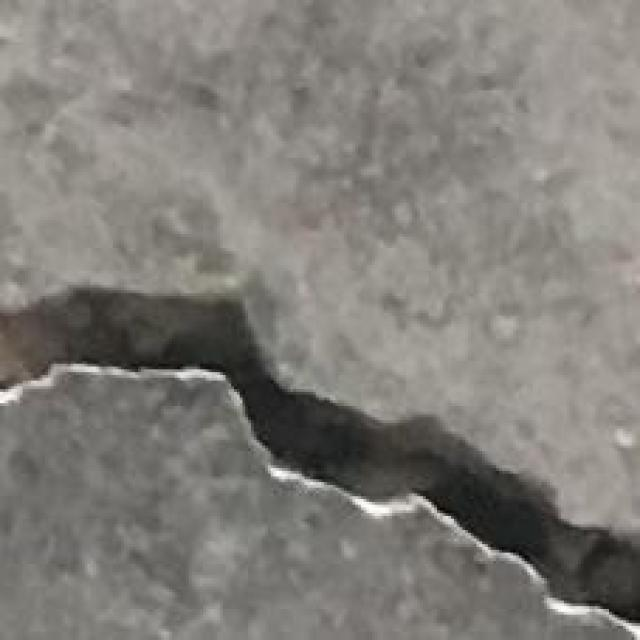Crack: (6, 259, 637, 612)
